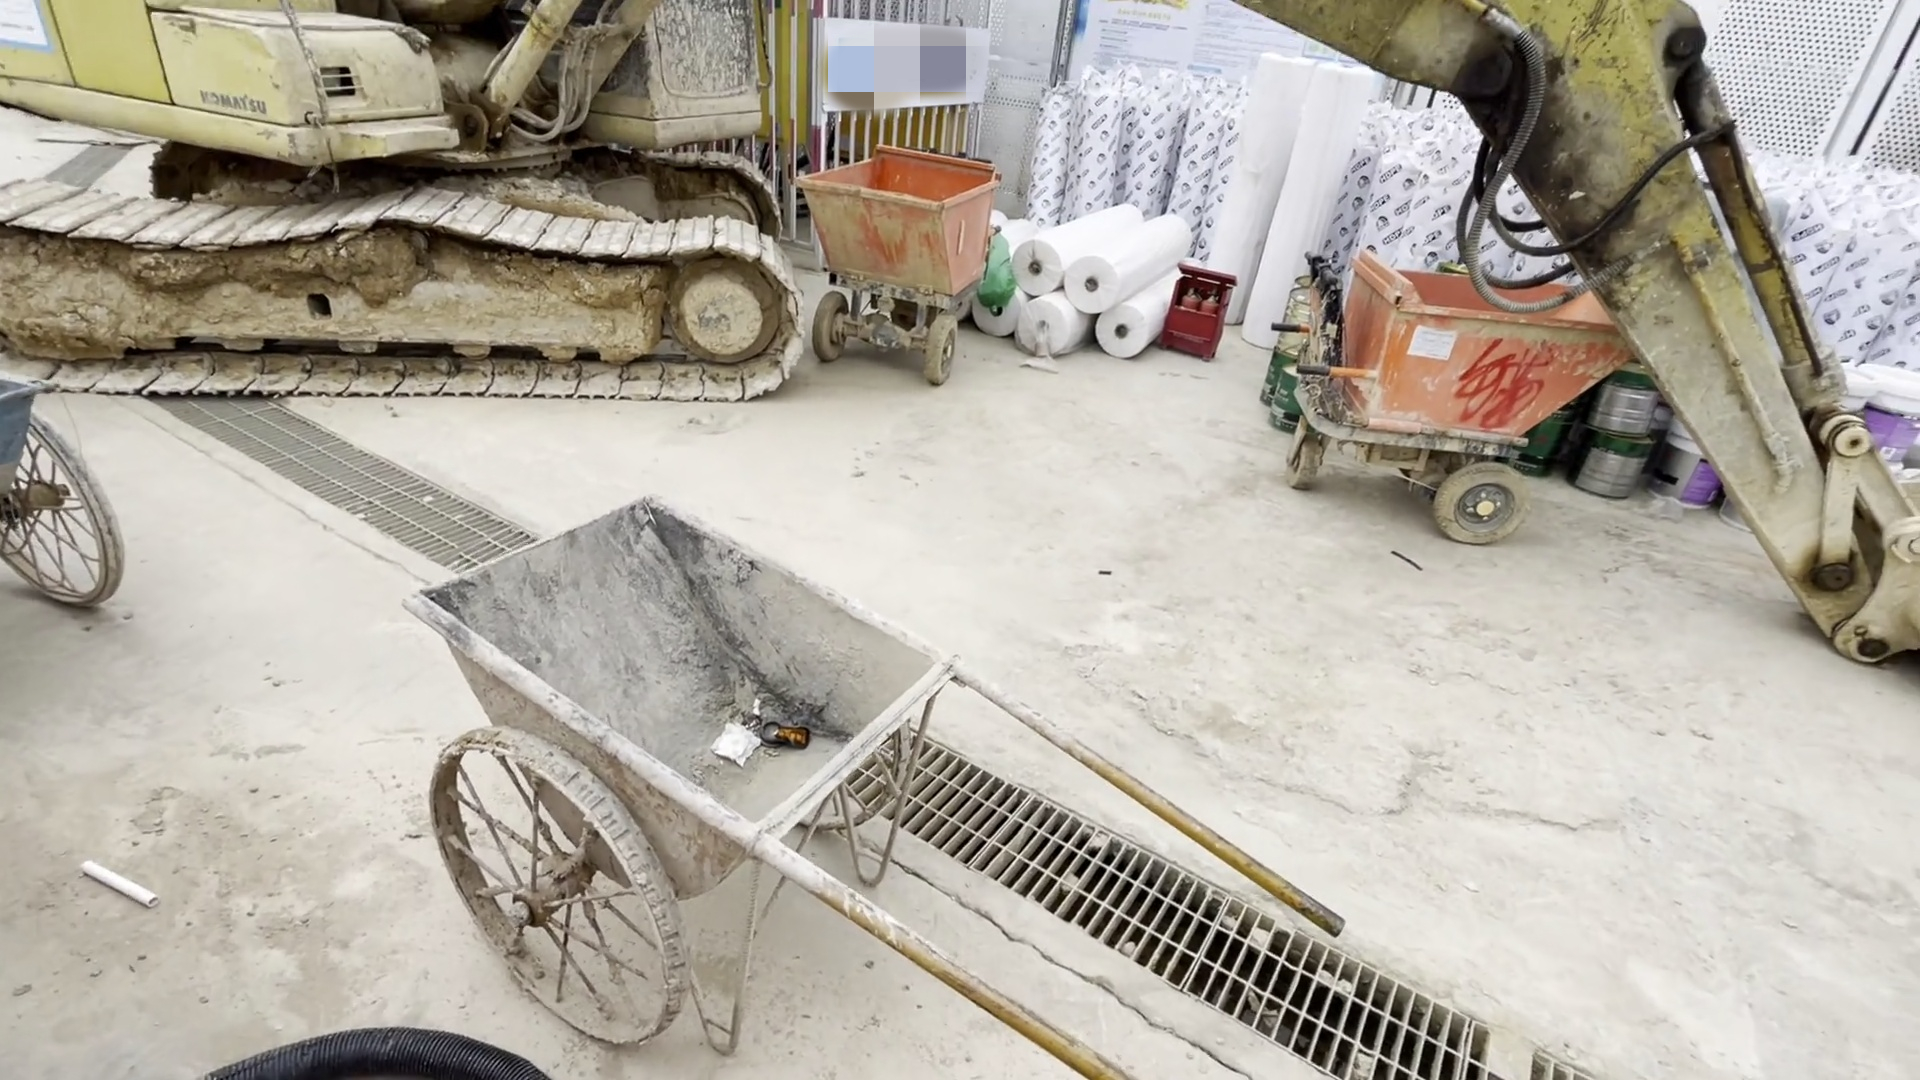handcart: (363, 469, 1346, 1080)
hopper: (1315, 257, 1647, 553), (795, 129, 1010, 400)
